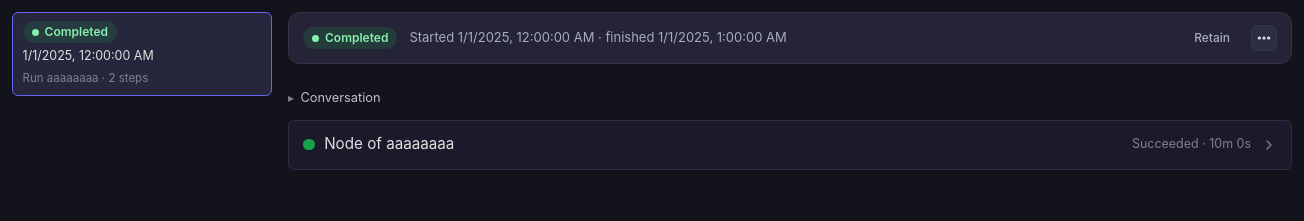
Test: RunsPanel re-read after an action › a clean up that went through is not reported as refused when re-reading the run fails
This screenshot has width=1304, height=221.
Expected: the text "Node of aaaaaaaa" is shown, left=324, top=133, right=454, bottom=156
What coordinates should you click on to do the following:
click the button named "Run actions"
I would click on:
 (1264, 38)
Its box is left=1251, top=25, right=1277, bottom=51.
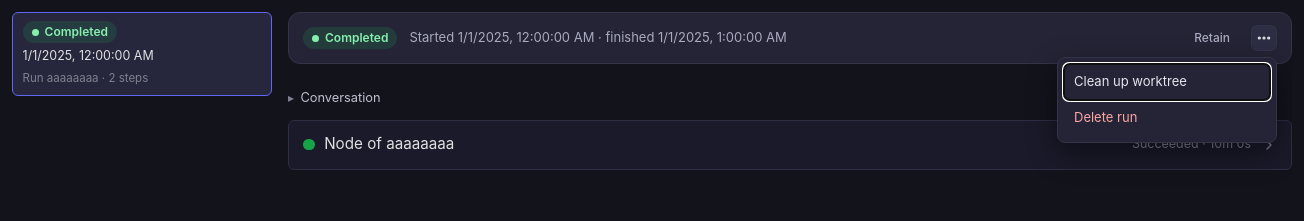
What coordinates should you click on to do the following:
click the menu item "Clean up worktree"
I would click on:
 (1167, 82)
Its box is left=1064, top=64, right=1270, bottom=100.
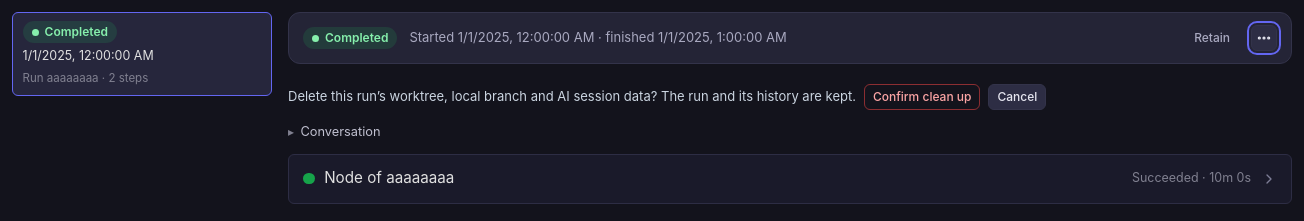
What coordinates should you click on to do the following:
click the button "Confirm clean up"
I would click on:
 (922, 97)
Its box is left=864, top=84, right=980, bottom=110.
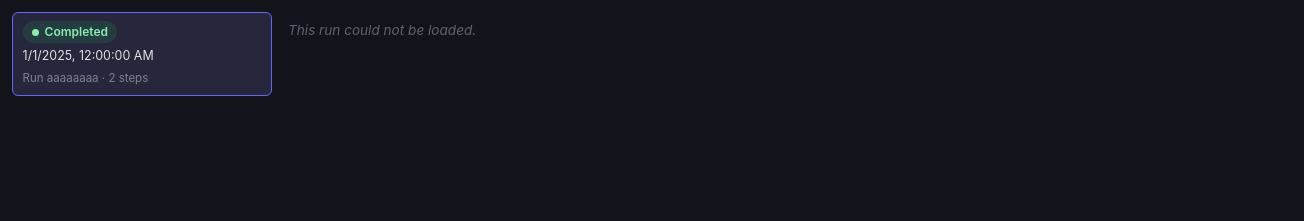
Expected: the button "Completed 1/1/2025, 12:00:00 AM Run aaaaaaaa · 2 steps" is shown, left=12, top=12, right=272, bottom=96
Expected: the button "Node of aaaaaaaa" is gone
